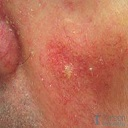Actinic: (50, 50, 85, 89)
